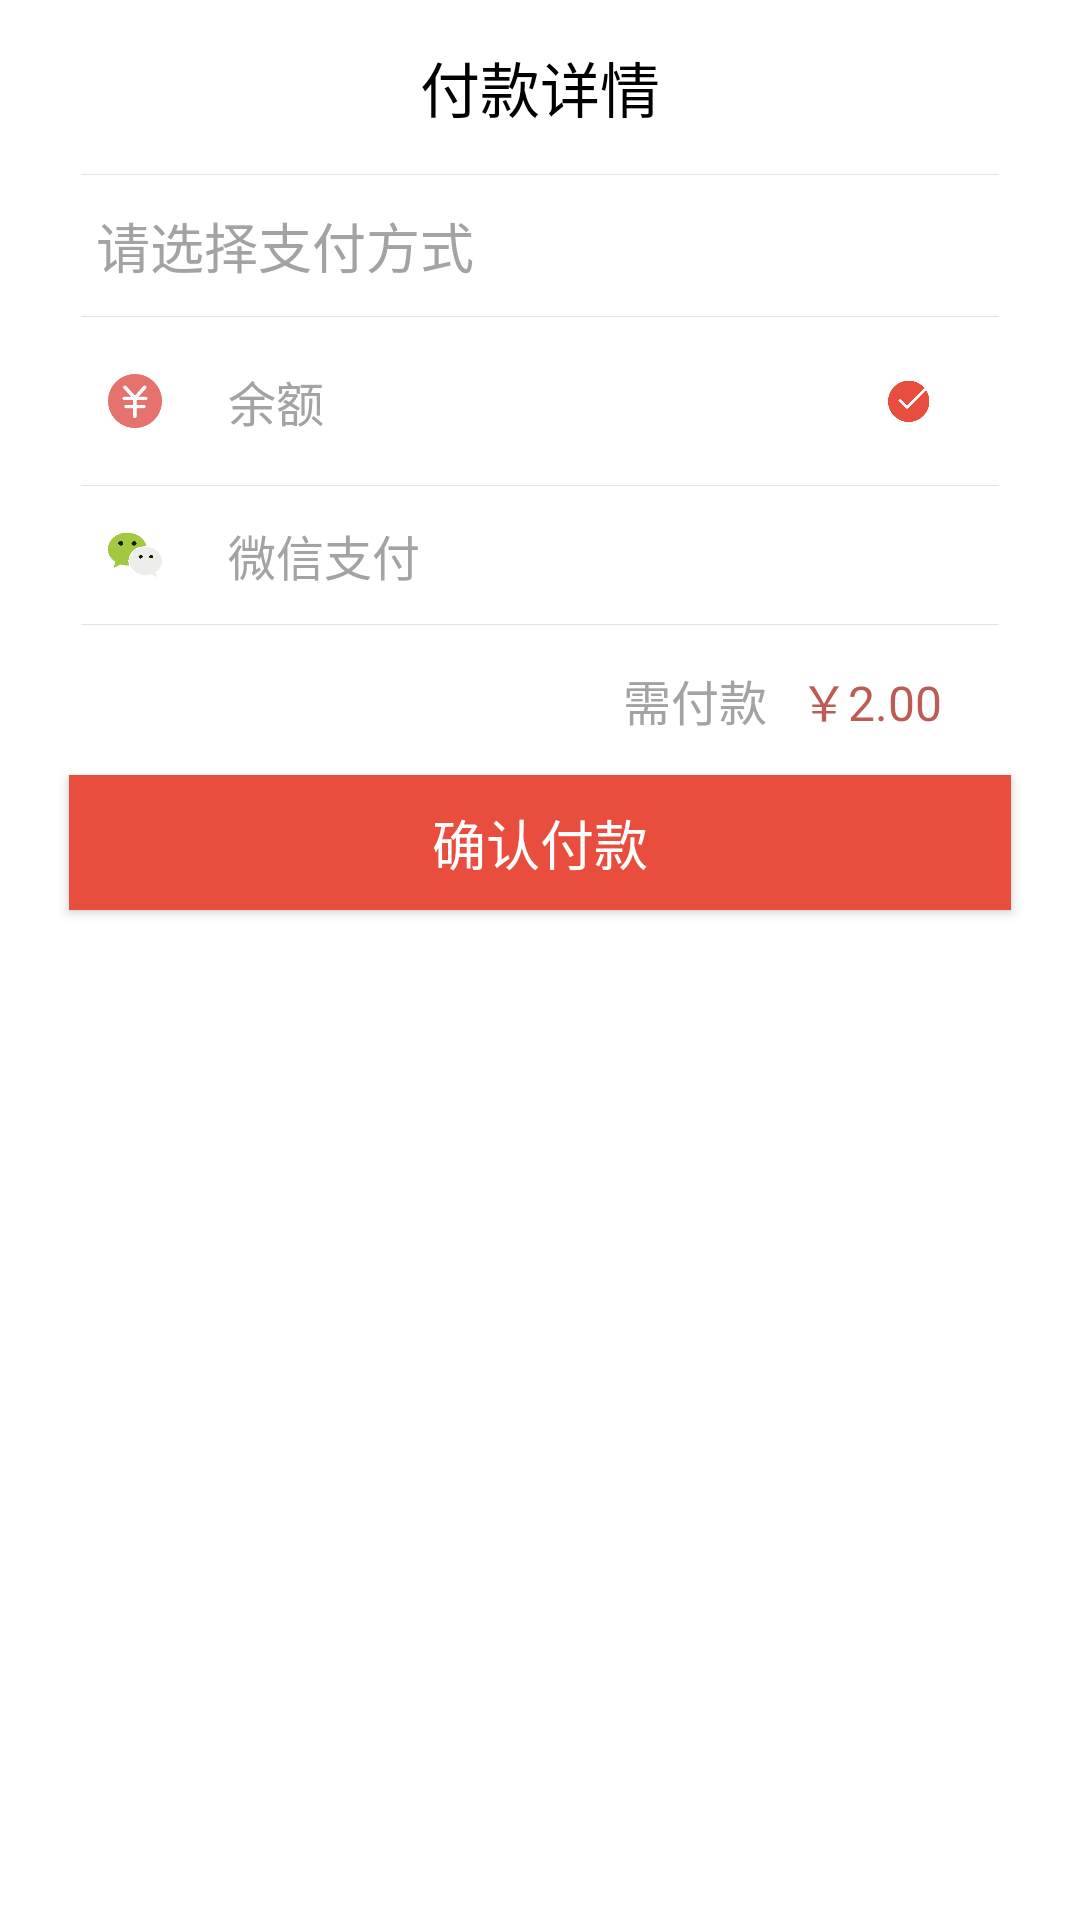

Point at icon controls on the screen. Image size 1080px x 1920px, points as (x,y).
balance: (135,401)
